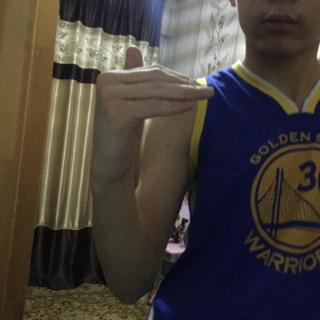KHAA: (85, 40, 218, 191)
